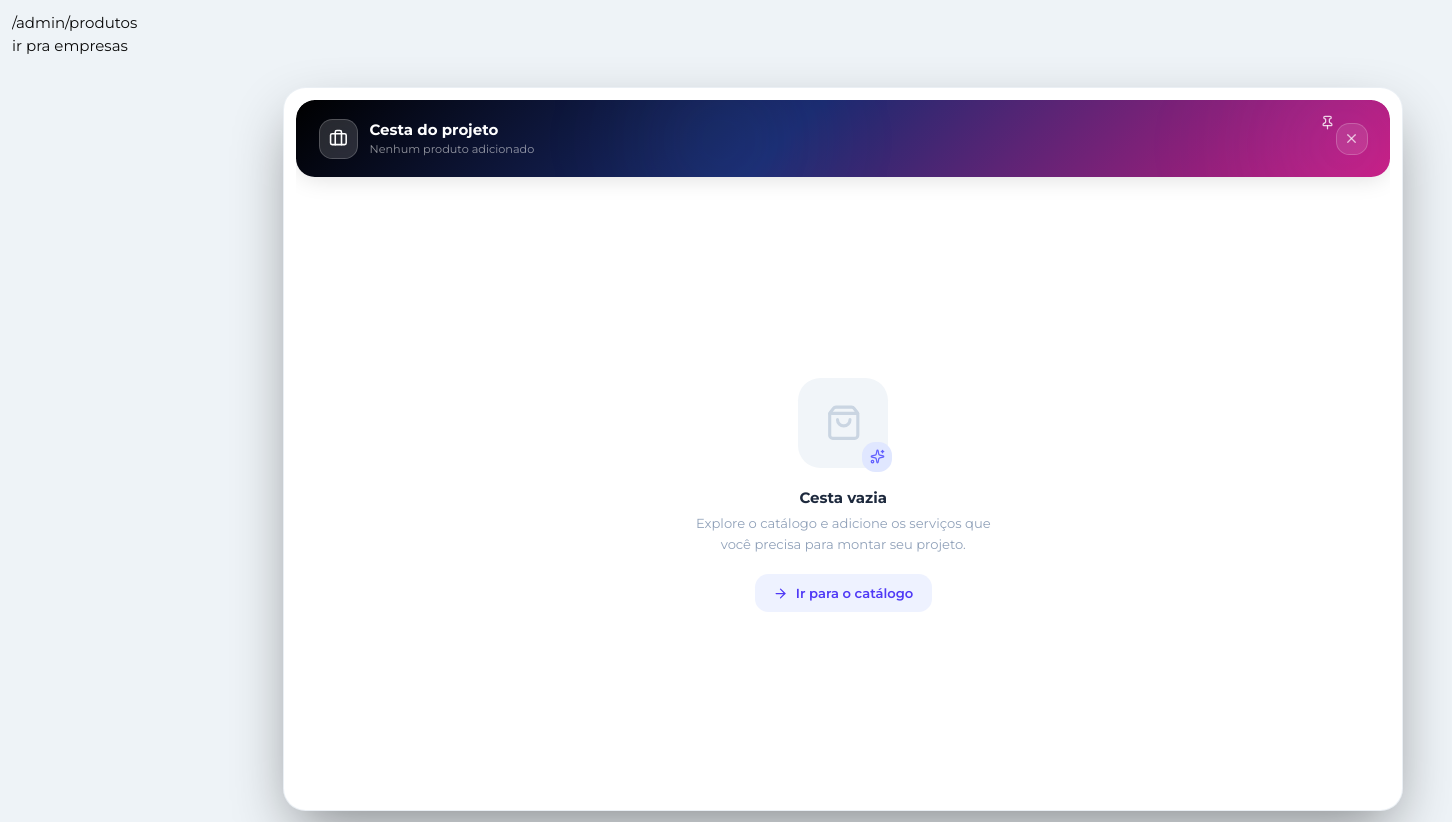
ProjectBasketDrawer — navegação do botão de catálogo › 9. Navegar por qualquer outro lugar (fora da cesta) continua fechando a cesta — comportamento original preservado
Click the link "ir pra empresas" at (70, 45), box [12,36,128,54]
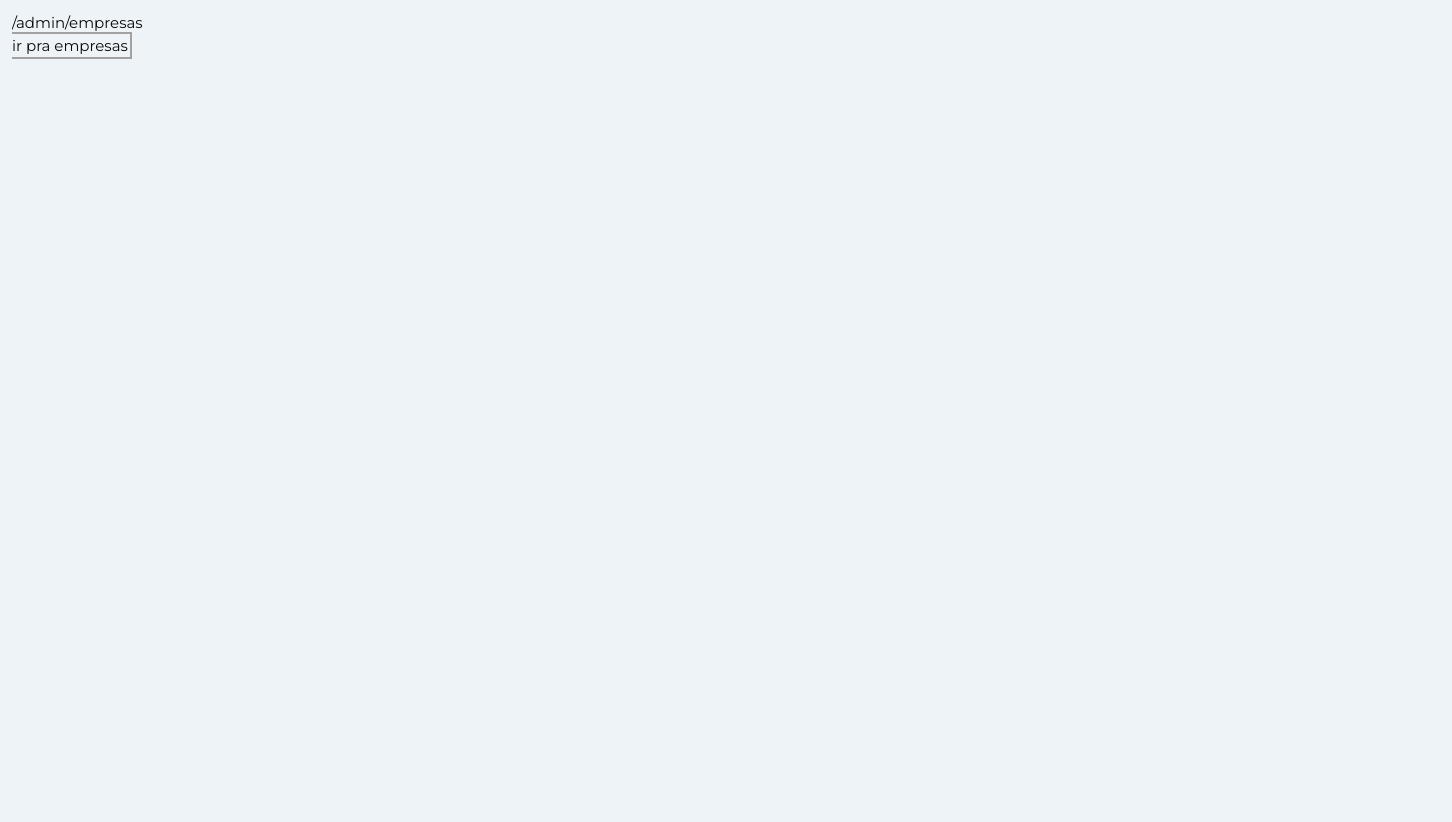
Expected: the text with test id "current-path" reads "/admin/empresas", [12,13,143,32]
